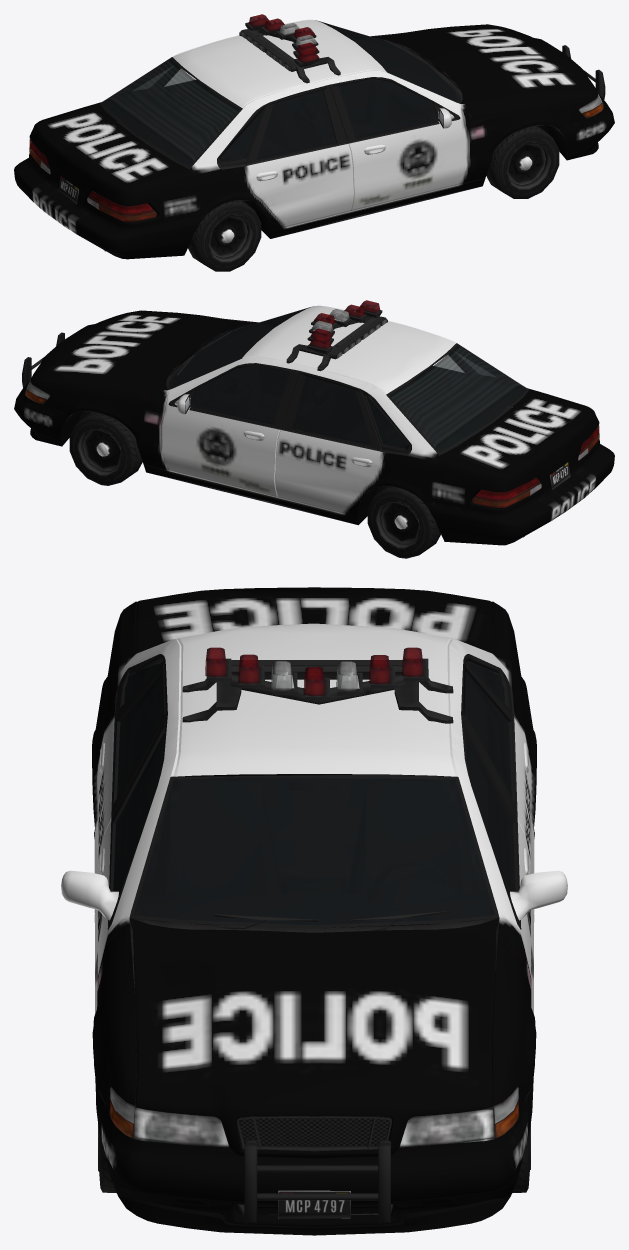
Rendered from murphy.glb.
3 views of the same model, one above another, from view 1: azimuth 30°, elevation 25°; view 2: azimuth 150°, elevation 25°; view 3: azimuth 270°, elevation 25° (orthographic). The views are drawn at different scales.
Visible parts, largest first — view 1: Murphy92_Body003_Murphy92_Bodymat_0, Murphy92_Interior003_UCB_Interior_Trim_0, Murphy97_Hood001_Murphy92_Bodymat_0, Murphy92_Trunkdoor003_Murphy92_Bodymat_0, Murphy92_Glass_Rear003_UCB_Lights_and_Glass_Transperent_0, Murphy92_Bottom003_UCB_BOTTOM_GT_0, Murphy92_Bumper_rear003_Murphy92_Bodymat_0, Murphy92_Glass_Body003_UCB_Lights_and_Glass_Transperent_0, Murphy92_Glass_Passanger003_UCB_Lights_and_Glass_Transperent, Murphy97_WheelStamp_FR_RB1c_Tire_1k_0, Murphy97_WheelStamp_RR_RB1c_Tire_1k_0, Murphy92_Windshield003_UCB_Lights_and_Glass_Transperent_0 (+7 smaller); view 2: Murphy92_Body003_Murphy92_Bodymat_0, Murphy92_Interior003_UCB_Interior_Trim_0, Murphy97_Hood001_Murphy92_Bodymat_0, Murphy92_Trunkdoor003_Murphy92_Bodymat_0, Murphy92_Glass_Rear003_UCB_Lights_and_Glass_Transperent_0, Murphy92_Bottom003_UCB_BOTTOM_GT_0, Murphy92_Bumper_rear003_Murphy92_Bodymat_0, Murphy92_Glass_Body003_UCB_Lights_and_Glass_Transperent_0, Murphy92_Glass_Driver003_UCB_Lights_and_Glass_Transperent_0, Murphy97_WheelStamp_FL_RB1c_Tire_1k_0, Murphy97_WheelStamp_RL_RB1c_Tire_1k_0, Murphy92_Windshield003_UCB_Lights_and_Glass_Transperent_0 (+8 smaller); view 3: Murphy97_Hood001_Murphy92_Bodymat_0, Murphy92_Body003_Murphy92_Bodymat_0, Murphy92_Interior003_UCB_Interior_Trim_0, Murphy92_Windshield003_UCB_Lights_and_Glass_Transperent_0, Murphy92_Bumper_Front003_Murphy92_Bodymat_0, Murphy92_Trunkdoor003_Murphy92_Bodymat_0, Murphy92_Bottom003_UCB_BOTTOM_GT_0, Murphy92_Lightbar001_UCB_BOTTOM_GT_0, Murphy97_Headlights_Glass001_UCB_Lights_and_Glass_Transperen, Murphy92_Glass_Body003_UCB_Lights_and_Glass_Transperent_0, Murphy97_Headlights001_UCB_Lights_and_Glass_0, Murphy97_Hood_Inner001_UCB_BOTTOM_GT_0 (+6 smaller).
Boxes of the visible parts, x1=… form: Murphy92_Body003_Murphy92_Bodymat_0: x1=29, y1=19, x2=597, y2=238; Murphy92_Interior003_UCB_Interior_Trim_0: x1=103, y1=22, x2=458, y2=169; Murphy97_Hood001_Murphy92_Bodymat_0: x1=370, y1=26, x2=597, y2=103; Murphy92_Trunkdoor003_Murphy92_Bodymat_0: x1=31, y1=104, x2=189, y2=203; Murphy92_Glass_Rear003_UCB_Lights_and_Glass_Transperent_0: x1=103, y1=59, x2=239, y2=165; Murphy92_Bottom003_UCB_BOTTOM_GT_0: x1=40, y1=20, x2=600, y2=251; Murphy92_Bumper_rear003_Murphy92_Bodymat_0: x1=14, y1=156, x2=205, y2=259; Murphy92_Glass_Body003_UCB_Lights_and_Glass_Transperent_0: x1=133, y1=64, x2=336, y2=161; Murphy92_Glass_Passanger003_UCB_Lights_and_Glass_Transperent: x1=338, y1=79, x2=438, y2=138; Murphy97_WheelStamp_FR_RB1c_Tire_1k_0: x1=486, y1=126, x2=559, y2=198; Murphy97_WheelStamp_RR_RB1c_Tire_1k_0: x1=188, y1=200, x2=261, y2=271; Murphy92_Windshield003_UCB_Lights_and_Glass_Transperent_0: x1=319, y1=21, x2=458, y2=102; Murphy92_Body003_Murphy92_Bodymat_0: x1=31, y1=305, x2=599, y2=524; Murphy92_Interior003_UCB_Interior_Trim_0: x1=170, y1=307, x2=525, y2=455; Murphy97_Hood001_Murphy92_Bodymat_0: x1=31, y1=312, x2=257, y2=390; Murphy92_Trunkdoor003_Murphy92_Bodymat_0: x1=440, y1=390, x2=597, y2=489; Murphy92_Glass_Rear003_UCB_Lights_and_Glass_Transperent_0: x1=389, y1=345, x2=525, y2=451; Murphy92_Bottom003_UCB_BOTTOM_GT_0: x1=27, y1=307, x2=586, y2=537; Murphy92_Bumper_rear003_Murphy92_Bodymat_0: x1=423, y1=442, x2=614, y2=545; Murphy92_Glass_Body003_UCB_Lights_and_Glass_Transperent_0: x1=292, y1=351, x2=494, y2=447; Murphy92_Glass_Driver003_UCB_Lights_and_Glass_Transperent_0: x1=190, y1=365, x2=290, y2=424; Murphy97_WheelStamp_FL_RB1c_Tire_1k_0: x1=69, y1=412, x2=142, y2=485; Murphy97_WheelStamp_RL_RB1c_Tire_1k_0: x1=367, y1=486, x2=440, y2=558; Murphy92_Windshield003_UCB_Lights_and_Glass_Transperent_0: x1=170, y1=307, x2=309, y2=388; Murphy97_Hood001_Murphy92_Bodymat_0: x1=129, y1=918, x2=499, y2=1158; Murphy92_Body003_Murphy92_Bodymat_0: x1=61, y1=601, x2=567, y2=1116; Murphy92_Interior003_UCB_Interior_Trim_0: x1=113, y1=654, x2=515, y2=970; Murphy92_Windshield003_UCB_Lights_and_Glass_Transperent_0: x1=134, y1=776, x2=494, y2=925; Murphy92_Bumper_Front003_Murphy92_Bodymat_0: x1=96, y1=1086, x2=532, y2=1234; Murphy92_Trunkdoor003_Murphy92_Bodymat_0: x1=134, y1=587, x2=494, y2=654; Murphy92_Bottom003_UCB_BOTTOM_GT_0: x1=95, y1=654, x2=535, y2=1235; Murphy92_Lightbar001_UCB_BOTTOM_GT_0: x1=182, y1=658, x2=453, y2=723; Murphy97_Headlights_Glass001_UCB_Lights_and_Glass_Transperen: x1=109, y1=1086, x2=519, y2=1147; Murphy92_Glass_Body003_UCB_Lights_and_Glass_Transperent_0: x1=117, y1=662, x2=511, y2=797; Murphy97_Headlights001_UCB_Lights_and_Glass_0: x1=134, y1=1106, x2=494, y2=1146; Murphy97_Hood_Inner001_UCB_BOTTOM_GT_0: x1=236, y1=1116, x2=392, y2=1151.
Bounding box in the file's own units: 5.01 × 1.55 × 2.05.
7 materials, 7 textured.
